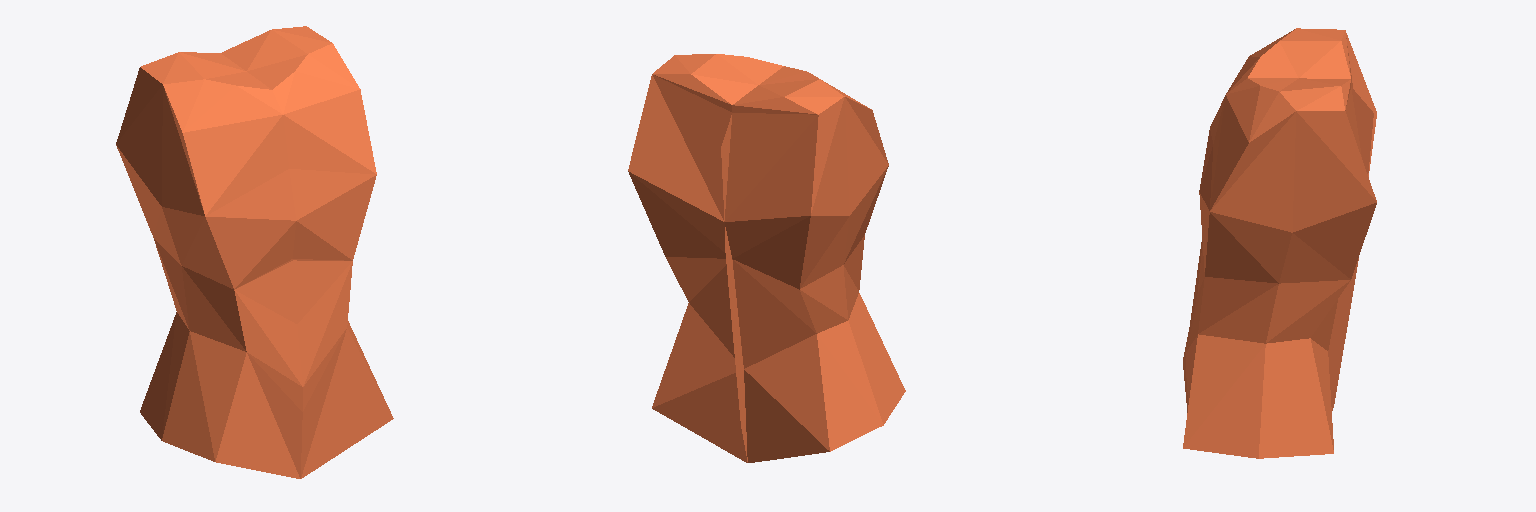
Rendered from romp.obj.
3 renders of one model, left to right at view 1: azimuth 30°, elevation 25°; view 2: azimuth 150°, elevation 25°; view 3: azimuth 270°, elevation 25°, orthographic.
Parts seen in each view (by area): view 1: Cube; view 2: Cube; view 3: Cube.
Boxes of the visible parts, x1,y1,x2,y2 form: Cube: [116, 26, 393, 478]; Cube: [628, 54, 905, 462]; Cube: [1183, 28, 1376, 458].
Size of the model in its own units: 1.01 by 1.78 by 0.8141.